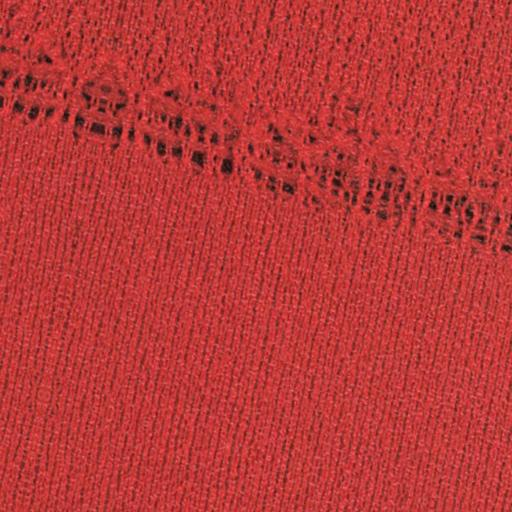slub: (2, 25, 512, 264)
